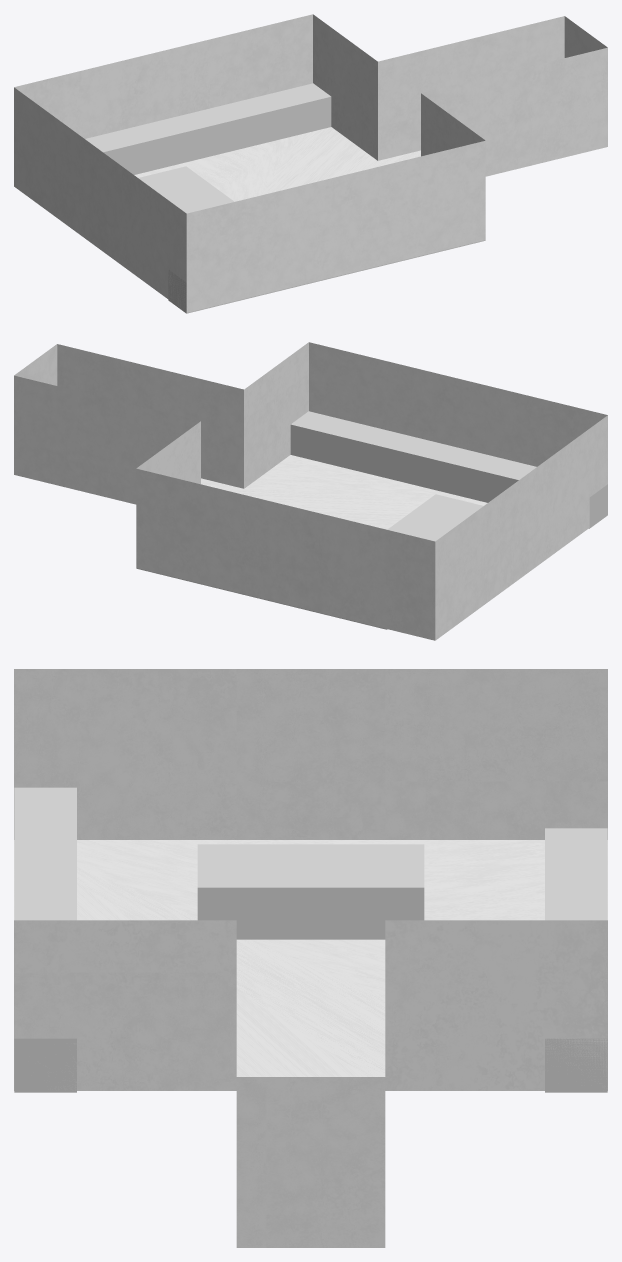
The model's file is Lab_Qui_Coliders.fbx.
3 renders of one model, top to bottom at view 1: azimuth 30°, elevation 25°; view 2: azimuth 150°, elevation 25°; view 3: azimuth 270°, elevation 25°, orthographic. The views are drawn at different scales.
Visible parts, largest first — view 1: Lab.001; view 2: Lab.001; view 3: Lab.001.
Boxes of the visible parts, x1,y1,x2,y2 form: Lab.001: (14, 14, 607, 313); Lab.001: (14, 342, 607, 640); Lab.001: (14, 669, 607, 1247).
Size of the model in its own units: 1300 by 256 by 800.
